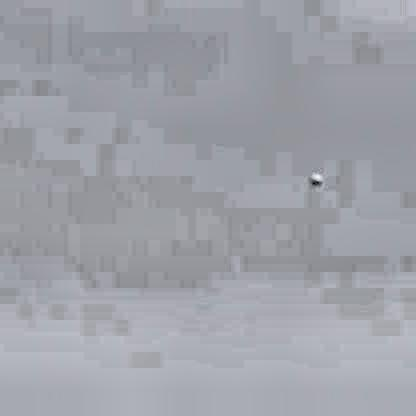golfball: (306, 168, 322, 184)
